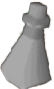vial: (1, 1, 54, 89)
